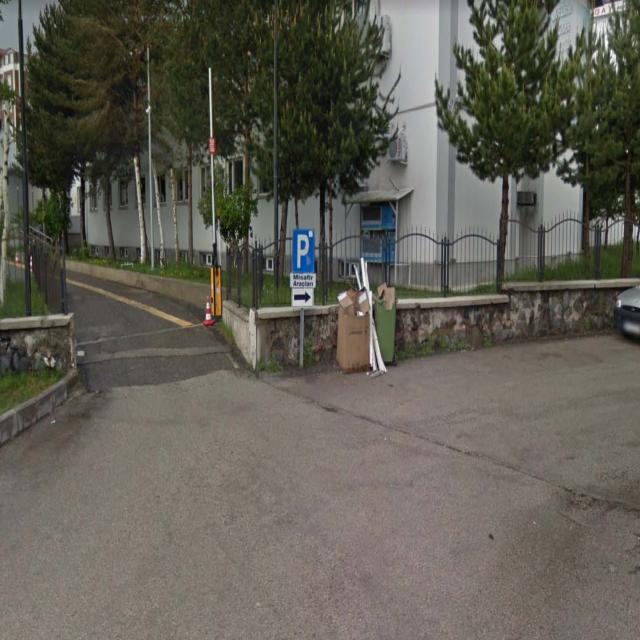park: (292, 230, 314, 274)
